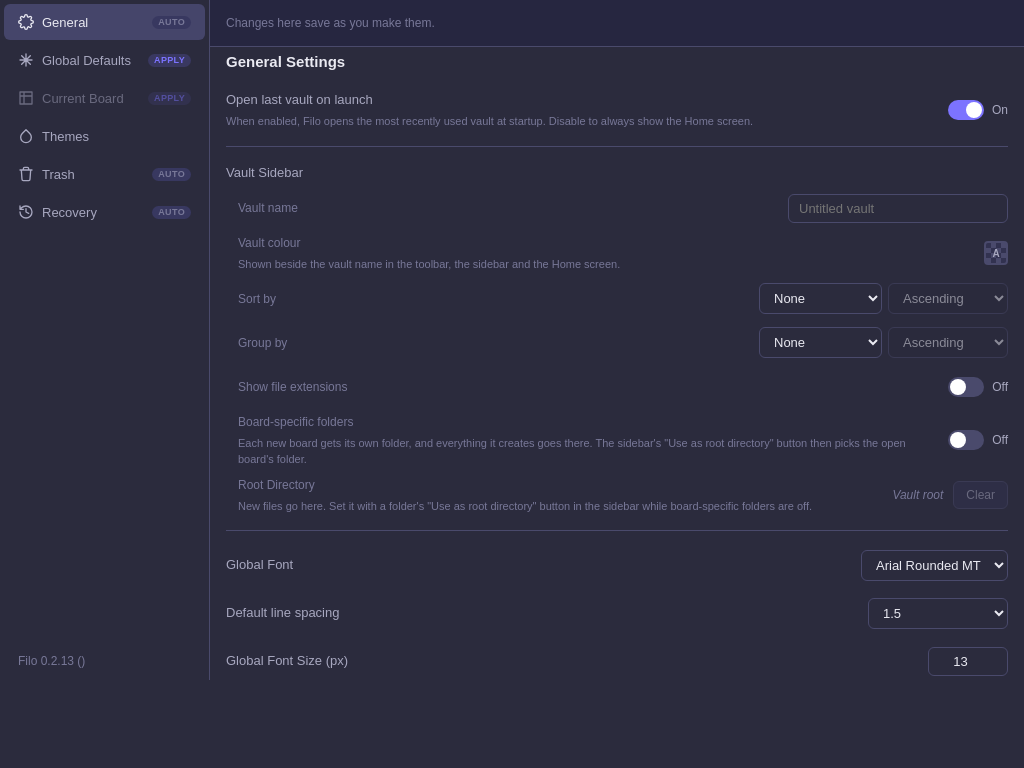
Test: Settings dialog › pins the action bar above the scrolling page and puts the bulk actions at its end
Click the tab with id "settings-tab-defaults". click: (104, 60)
box: [4,42,205,78]
(page scrolled)
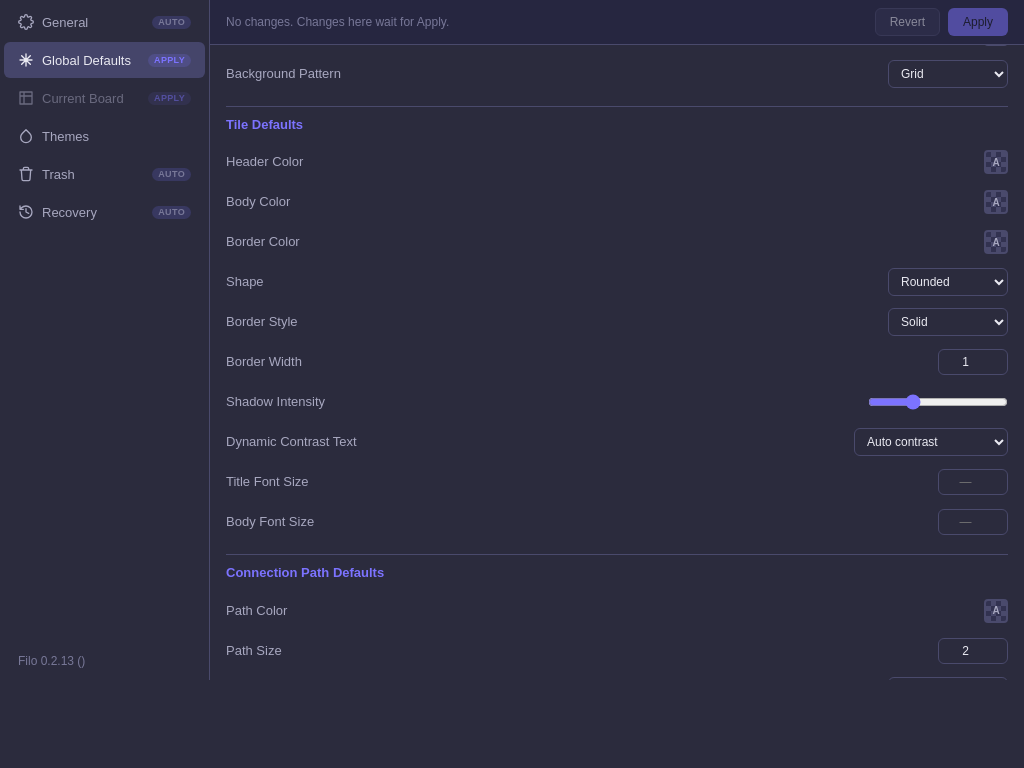
Result: the element with class "settings-action-bar" is shown at [210,0,1023,45]
Result: the element with class "settings-action-bar" shows "No changes" at [226,15,449,29]
Replace the text in the number field with id "mm-border-width" with "4". click: (973, 362)
box: [938,349,1008,375]
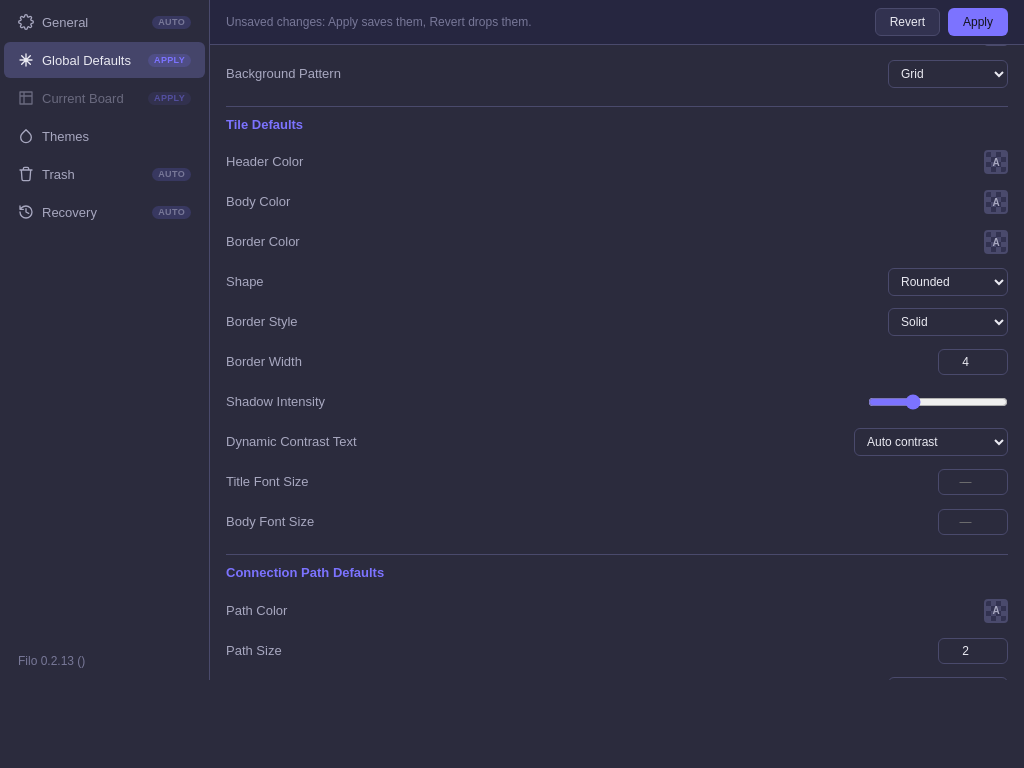
Result: the element with class "settings-action-bar" shows "Unsaved changes" at [226,15,532,29]
